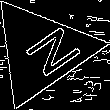N_SW: (6, 20, 77, 82)
